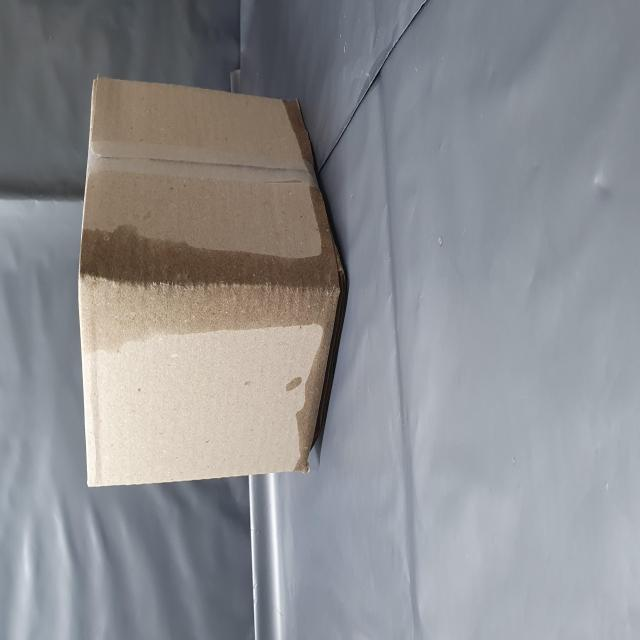wet: (148, 143, 230, 606), (99, 515, 310, 598)
